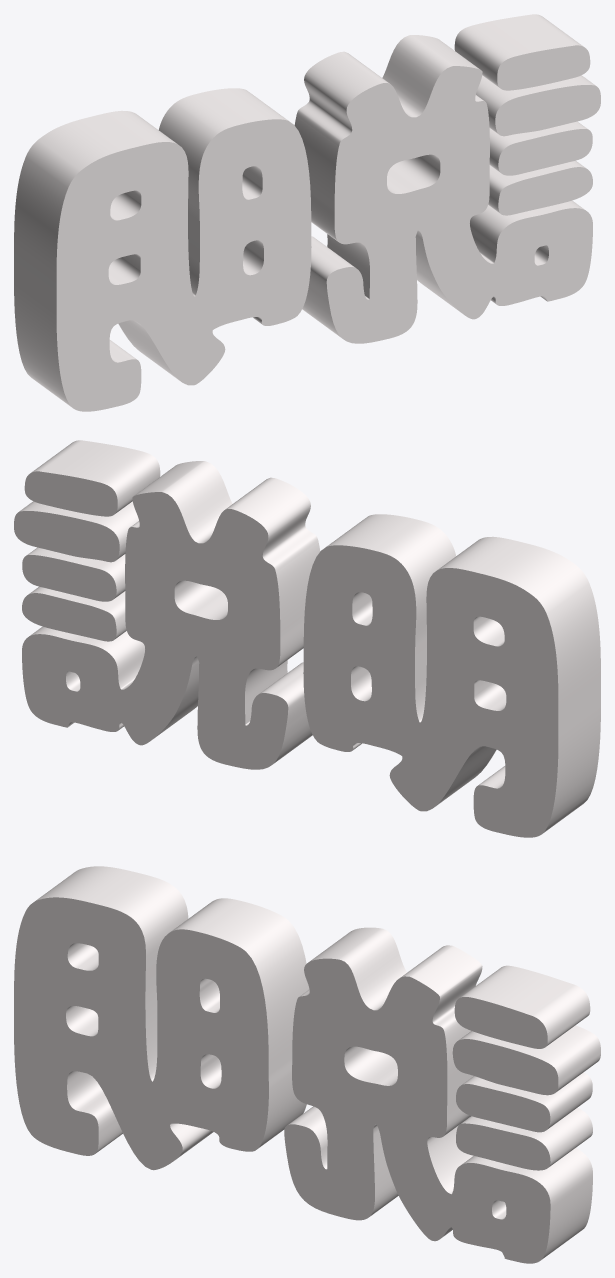
The model's file is explanation.obj.
3 views of the same model, one above another, from view 1: azimuth 30°, elevation 25°; view 2: azimuth 150°, elevation 25°; view 3: azimuth 330°, elevation 25° (orthographic).
Visible parts, largest first — view 1: 説明; view 2: 説明; view 3: 説明.
Part boxes in pixels (bbox=[...]): 説明: bbox=[14, 14, 600, 411]; 説明: bbox=[14, 440, 600, 837]; 説明: bbox=[14, 866, 600, 1263].
Size of the model in its own units: 1.48 by 0.6722 by 0.2.
